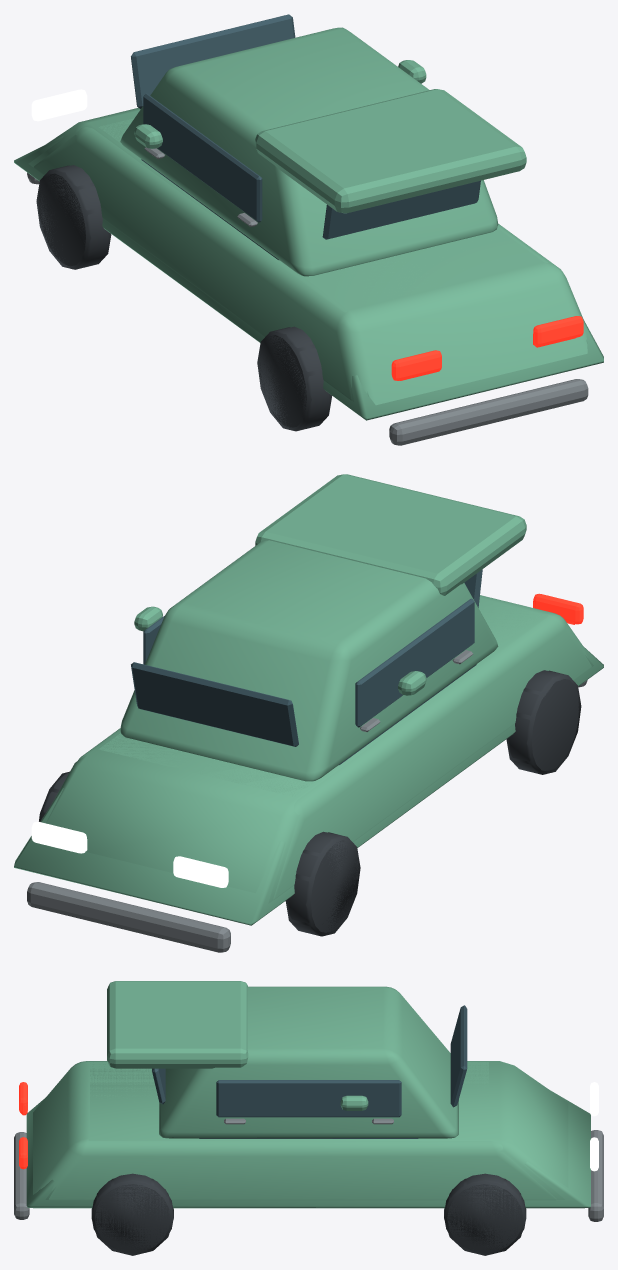
The model's file is family_wagon.glb.
3 views of the same model, one above another, from view 1: azimuth 30°, elevation 25°; view 2: azimuth 150°, elevation 25°; view 3: azimuth 270°, elevation 25° (orthographic). The views are drawn at different scales.
Visible parts, largest first — view 1: LOD0_family_wagon_LowerBody, LOD0_family_wagon_Cabin, LOD0_family_wagon_RoofExtension, LOD2_family_wagon_Body, LOD0_family_wagon_SideGlass_L, LOD0_family_wagon_Wheel_FL, LOD0_family_wagon_RearBumper, LOD0_family_wagon_Windshield, LOD0_family_wagon_Wheel_RL, LOD0_family_wagon_RearGlass, LOD1_family_wagon_Body, LOD1_family_wagon_Wheel_RL (+4 smaller); view 2: LOD0_family_wagon_Cabin, LOD1_family_wagon_Body, LOD0_family_wagon_LowerBody, LOD0_family_wagon_RoofExtension, LOD2_family_wagon_Body, LOD0_family_wagon_Windshield, LOD0_family_wagon_FrontBumper, LOD0_family_wagon_SideGlass_L, LOD0_family_wagon_Wheel_RL, LOD0_family_wagon_Wheel_FL, LOD1_family_wagon_Wheel_FL, LOD0_family_wagon_Headlamp_L (+3 smaller); view 3: LOD0_family_wagon_LowerBody, LOD0_family_wagon_Cabin, LOD1_family_wagon_Body, LOD0_family_wagon_RoofExtension, LOD0_family_wagon_SideGlass_R, LOD2_family_wagon_Body, LOD0_family_wagon_Wheel_FR, LOD0_family_wagon_Wheel_RR, LOD1_family_wagon_Wheel_RR, LOD1_family_wagon_Wheel_FR, LOD0_family_wagon_Windshield, LOD0_family_wagon_FrontBumper (+3 smaller).
Boxes of the visible parts, x1=… form: LOD0_family_wagon_LowerBody: x1=33, y1=118, x2=587, y2=405; LOD0_family_wagon_Cabin: x1=120, y1=27, x2=498, y2=276; LOD0_family_wagon_RoofExtension: x1=255, y1=89, x2=526, y2=213; LOD2_family_wagon_Body: x1=14, y1=136, x2=603, y2=420; LOD0_family_wagon_SideGlass_L: x1=143, y1=93, x2=262, y2=222; LOD0_family_wagon_Wheel_FL: x1=38, y1=165, x2=109, y2=268; LOD0_family_wagon_RearBumper: x1=389, y1=379, x2=588, y2=445; LOD0_family_wagon_Windshield: x1=131, y1=14, x2=295, y2=109; LOD0_family_wagon_Wheel_RL: x1=259, y1=326, x2=329, y2=429; LOD0_family_wagon_RearGlass: x1=322, y1=180, x2=480, y2=239; LOD1_family_wagon_Body: x1=28, y1=107, x2=587, y2=401; LOD1_family_wagon_Wheel_RL: x1=257, y1=327, x2=331, y2=431; LOD0_family_wagon_Cabin: x1=120, y1=540, x2=498, y2=781; LOD1_family_wagon_Body: x1=46, y1=599, x2=593, y2=903; LOD0_family_wagon_LowerBody: x1=78, y1=595, x2=591, y2=899; LOD0_family_wagon_RoofExtension: x1=255, y1=474, x2=526, y2=595; LOD2_family_wagon_Body: x1=14, y1=645, x2=603, y2=925; LOD0_family_wagon_Windshield: x1=131, y1=662, x2=298, y2=746; LOD0_family_wagon_FrontBumper: x1=27, y1=882, x2=230, y2=952; LOD0_family_wagon_SideGlass_L: x1=355, y1=598, x2=474, y2=727; LOD0_family_wagon_Wheel_RL: x1=508, y1=670, x2=578, y2=773; LOD0_family_wagon_Wheel_FL: x1=287, y1=831, x2=358, y2=934; LOD1_family_wagon_Wheel_FL: x1=285, y1=832, x2=360, y2=936; LOD0_family_wagon_Headlamp_L: x1=173, y1=856, x2=228, y2=887; LOD0_family_wagon_LowerBody: x1=33, y1=1061, x2=556, y2=1200; LOD0_family_wagon_Cabin: x1=159, y1=986, x2=458, y2=1138; LOD1_family_wagon_Body: x1=33, y1=1061, x2=584, y2=1208; LOD0_family_wagon_RoofExtension: x1=107, y1=981, x2=248, y2=1068; LOD0_family_wagon_SideGlass_R: x1=216, y1=1080, x2=401, y2=1117; LOD2_family_wagon_Body: x1=26, y1=1091, x2=590, y2=1207; LOD0_family_wagon_Wheel_FR: x1=444, y1=1173, x2=526, y2=1252; LOD0_family_wagon_Wheel_RR: x1=91, y1=1173, x2=173, y2=1252; LOD1_family_wagon_Wheel_RR: x1=91, y1=1178, x2=173, y2=1255; LOD1_family_wagon_Wheel_FR: x1=444, y1=1178, x2=526, y2=1255; LOD0_family_wagon_Windshield: x1=450, y1=1005, x2=467, y2=1107; LOD0_family_wagon_FrontBumper: x1=588, y1=1130, x2=603, y2=1221.
Size of what is drawn, in the model's own units: 2.14 by 1.71 by 4.88.
